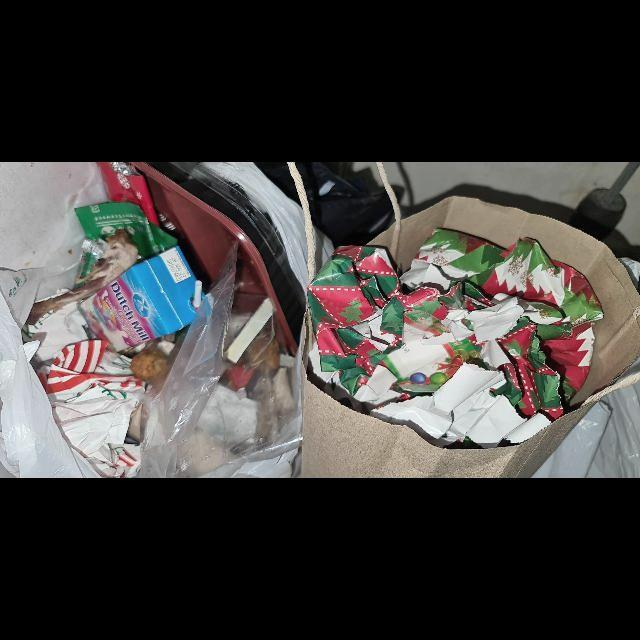left_over_food: (26, 228, 139, 326)
paper: (308, 228, 604, 452), (37, 340, 148, 479)
